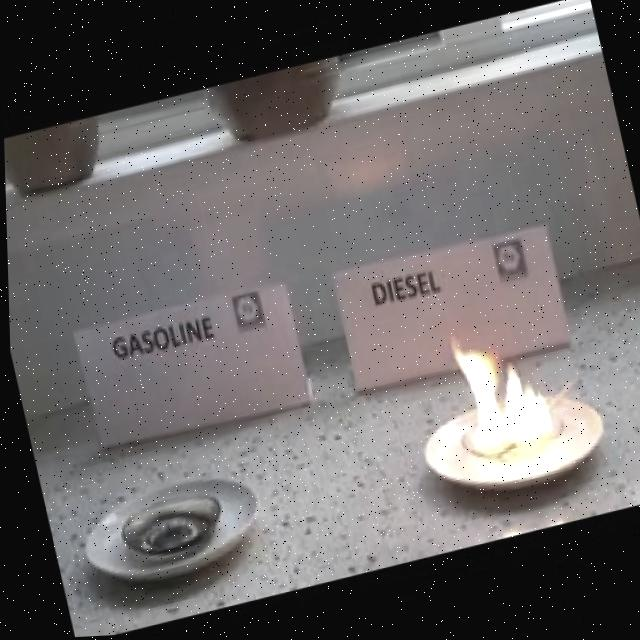Fire: (443, 326, 557, 473)
